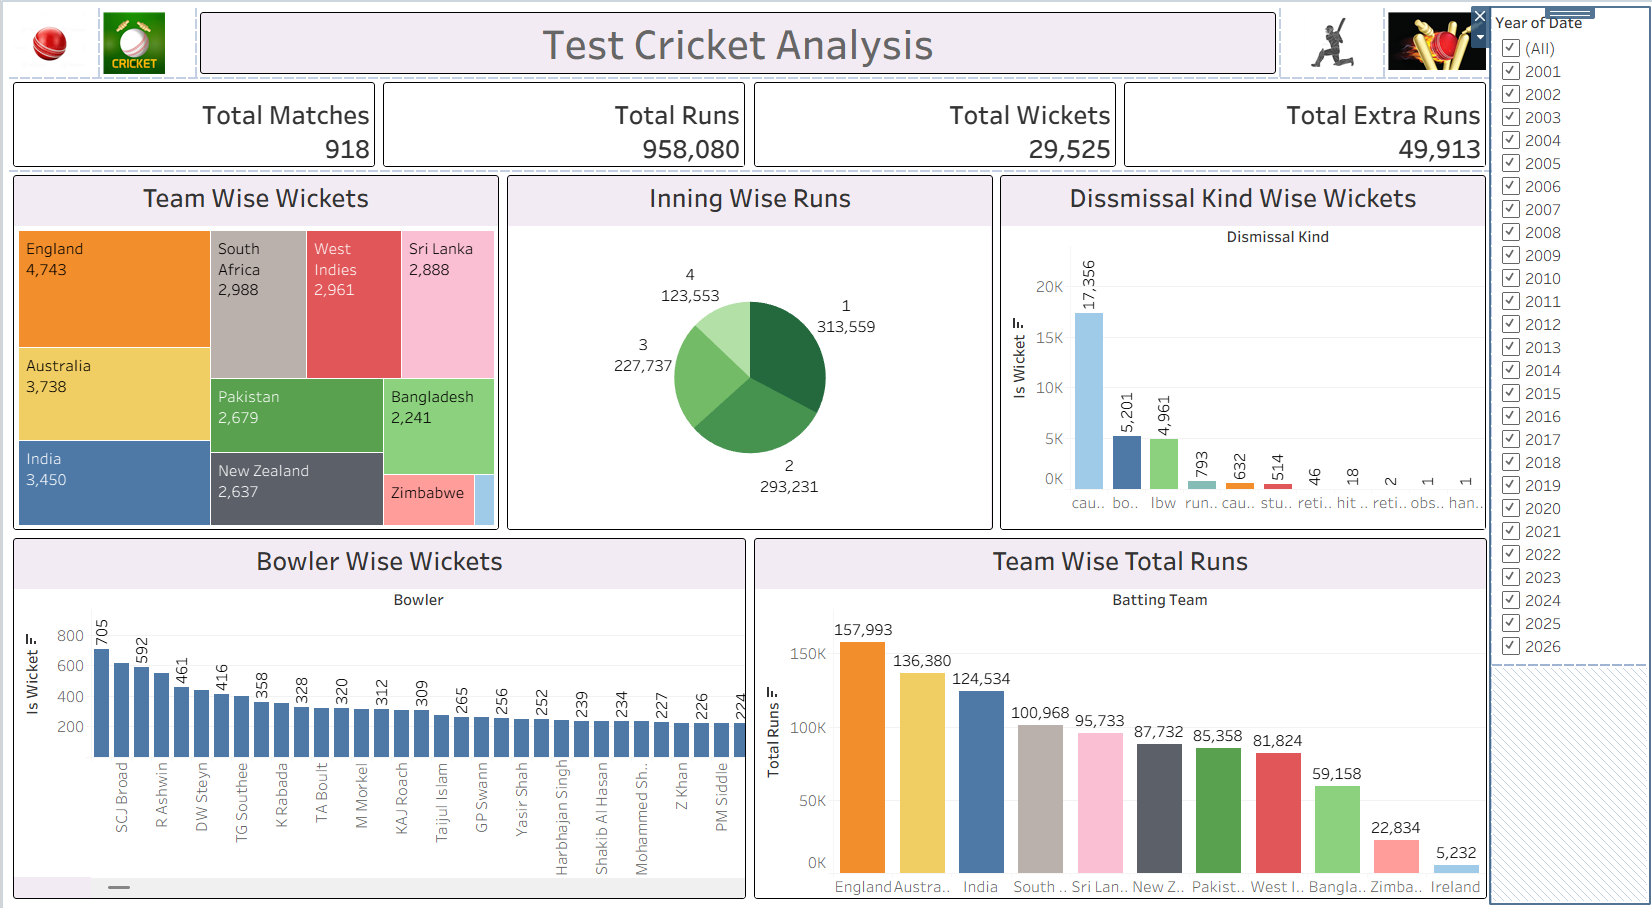

This screenshot's page, from the dashboard's own definition file:
{"tool":"tableau","page":{"name":"Test Cricket Analysis","canvas":[1000,1000],"units":"permille","ordinal":0},"visuals":[{"type":"image","param":"C:/Users/Gaurav/Desktop/Tableau/Ball.jpg","box":[4.8,8.8,54.2,76.8]},{"type":"image","param":"C:/Users/Gaurav/Desktop/Tableau/images.jpg","box":[59,8.8,58.4,76.8]},{"type":"text","box":[117.4,8.8,654.4,76.8]},{"type":"image","param":"C:/Users/Gaurav/Desktop/Tableau/Player.jpg","box":[771.7,8.8,63.2,76.8]},{"type":"image","param":"C:/Users/Gaurav/Desktop/Tableau/Stumps.jpg","box":[834.9,8.8,64.2,76.8]},{"type":"filter","title":"Team Wise Total Runs","param":"[federated.13vzm3f0md485817xh07412mv1l3].[yr:date:ok]","box":[899.1,8.8,96.2,720.1]},{"type":"worksheet","title":"Total Matches","mark":"Automatic","box":[4.8,85.6,224,102.1]},{"type":"worksheet","title":"Total Runs","mark":"Automatic","box":[228.8,85.6,222.3,102.1]},{"type":"worksheet","title":"Total Wickets","mark":"Automatic","box":[451.1,85.6,224,102.1]},{"type":"worksheet","title":"Total Extra Runs","mark":"Automatic","box":[675,85.6,224,102.1]},{"type":"worksheet","title":"Team Wise Wickets","mark":"Automatic","box":[4.8,187.7,297.9,399]},{"type":"worksheet","title":"Inning Wise Runs","mark":"Pie","box":[302.7,187.7,298.1,399]},{"type":"worksheet","title":"Dissmissal Kind Wise Wickets","mark":"Automatic","rows":["is_wicket"],"cols":["dismissal_kind"],"box":[600.8,187.7,298.3,399]},{"type":"worksheet","title":"Bowler Wise Wickets","mark":"Automatic","rows":["is_wicket"],"cols":["bowler"],"box":[4.8,586.6,447.2,404.6]},{"type":"worksheet","title":"Team Wise Total Runs","mark":"Automatic","rows":["total_runs"],"cols":["batting_team"],"box":[452,586.6,447,404.6]}]}

Visuals, with their boxes on the dashboard's canvas, which has no fixed pixel size, in thousandths of its width and height (x1, y1, x2, y2). These are canvas units, not pixel positions in the 1652x908 screenshot, which may show the page scaled, cropped or inside an application window:
image: rect(5, 9, 59, 86)
image: rect(59, 9, 117, 86)
text: rect(117, 9, 772, 86)
image: rect(772, 9, 835, 86)
image: rect(835, 9, 899, 86)
"Team Wise Total Runs" filter: rect(899, 9, 995, 729)
"Total Matches" worksheet: rect(5, 86, 229, 188)
"Total Runs" worksheet: rect(229, 86, 451, 188)
"Total Wickets" worksheet: rect(451, 86, 675, 188)
"Total Extra Runs" worksheet: rect(675, 86, 899, 188)
"Team Wise Wickets" worksheet: rect(5, 188, 303, 587)
"Inning Wise Runs" worksheet (Pie marks): rect(303, 188, 601, 587)
"Dissmissal Kind Wise Wickets" worksheet: rect(601, 188, 899, 587)
"Bowler Wise Wickets" worksheet: rect(5, 587, 452, 991)
"Team Wise Total Runs" worksheet: rect(452, 587, 899, 991)
